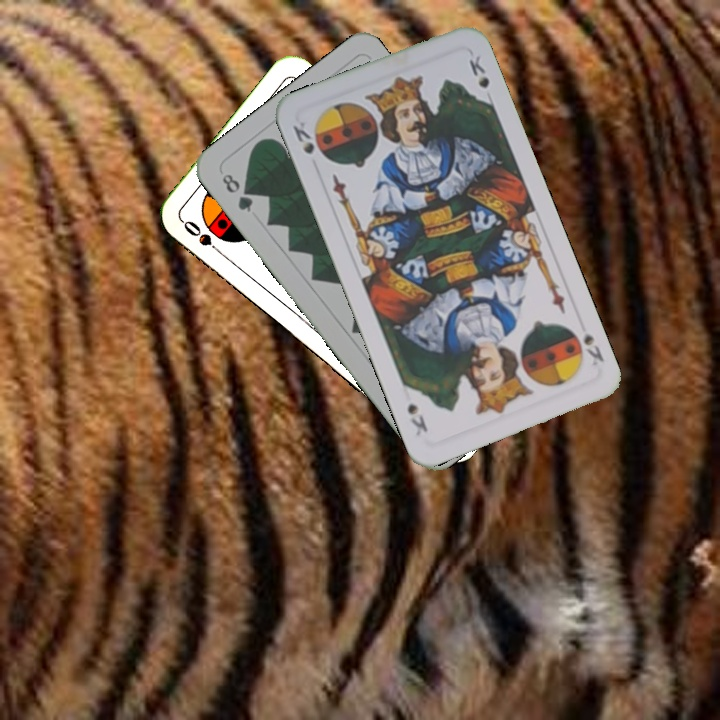G8: (217, 169, 256, 215)
SK: (288, 117, 326, 160), (579, 328, 607, 369)
SO: (178, 216, 228, 260)
